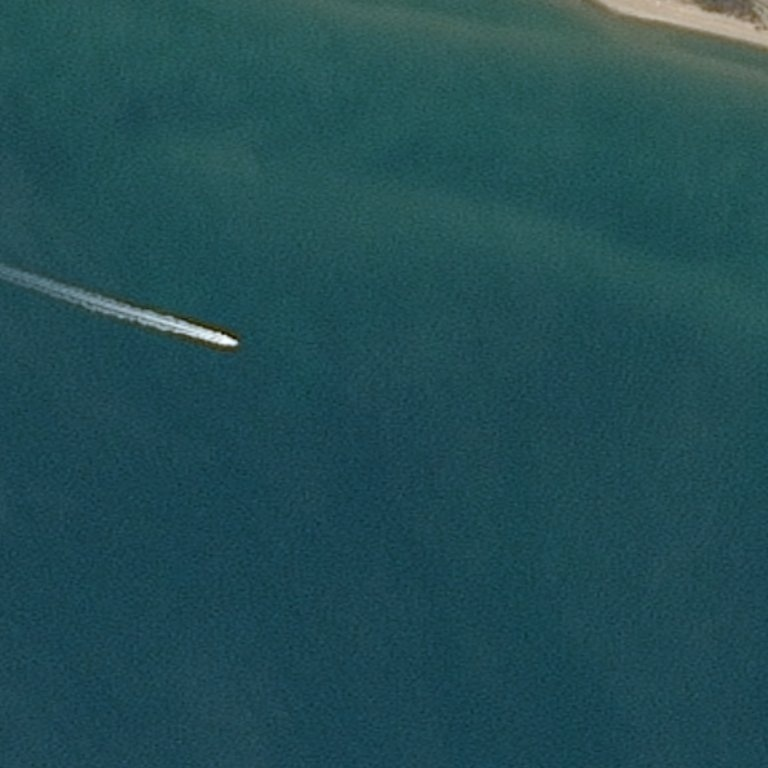ship: (221, 332, 237, 346)
